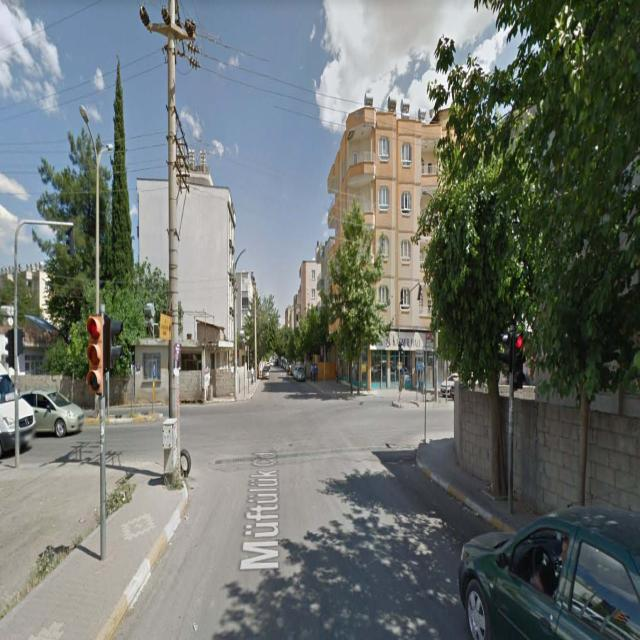kirmizi: (86, 318, 102, 393), (513, 331, 523, 392)
